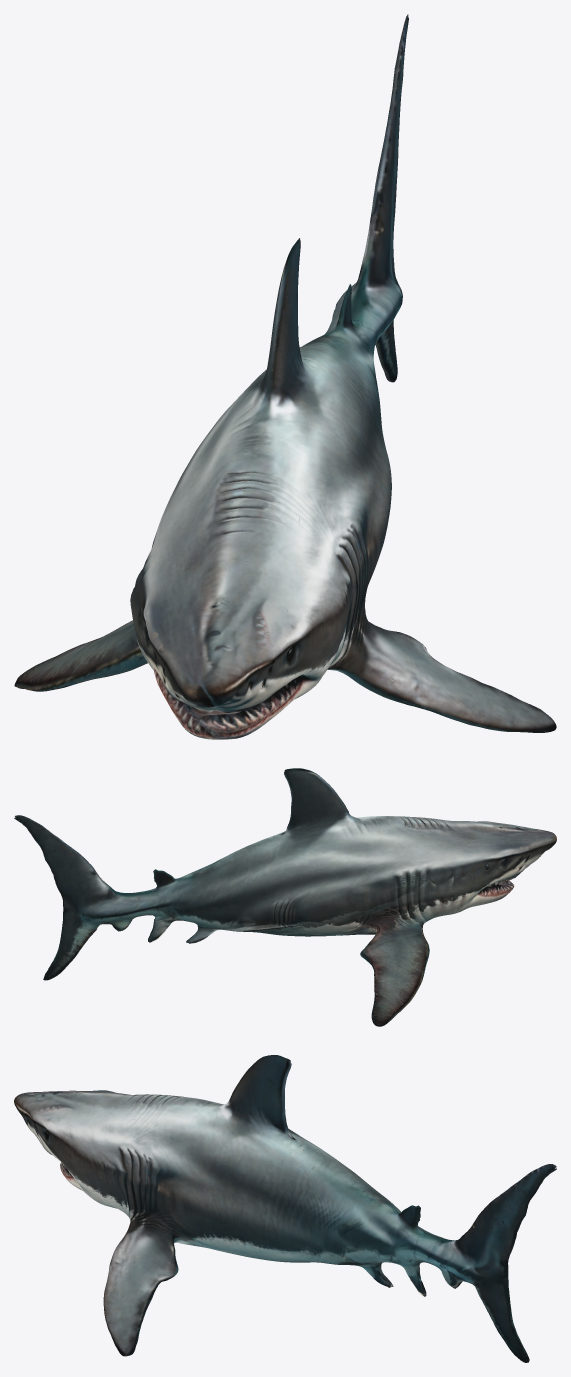
File: shark.gltf
3 renders of one model, top to bottom at view 1: azimuth 30°, elevation 25°; view 2: azimuth 150°, elevation 25°; view 3: azimuth 270°, elevation 25°, orthographic. The views are drawn at different scales.
Visible parts, largest first — view 1: Mesh1_Mesh1.011; view 2: Mesh1_Mesh1.011; view 3: Mesh1_Mesh1.011.
Part boxes in pixels (left/top/right/bottom): Mesh1_Mesh1.011: left=14, top=14, right=556, bottom=739; Mesh1_Mesh1.011: left=14, top=768, right=556, bottom=1026; Mesh1_Mesh1.011: left=14, top=1055, right=556, bottom=1362.
Bounding box in the file's own units: 1.71 × 1.06 × 2.
Materials: 1 (1 with a texture image).
